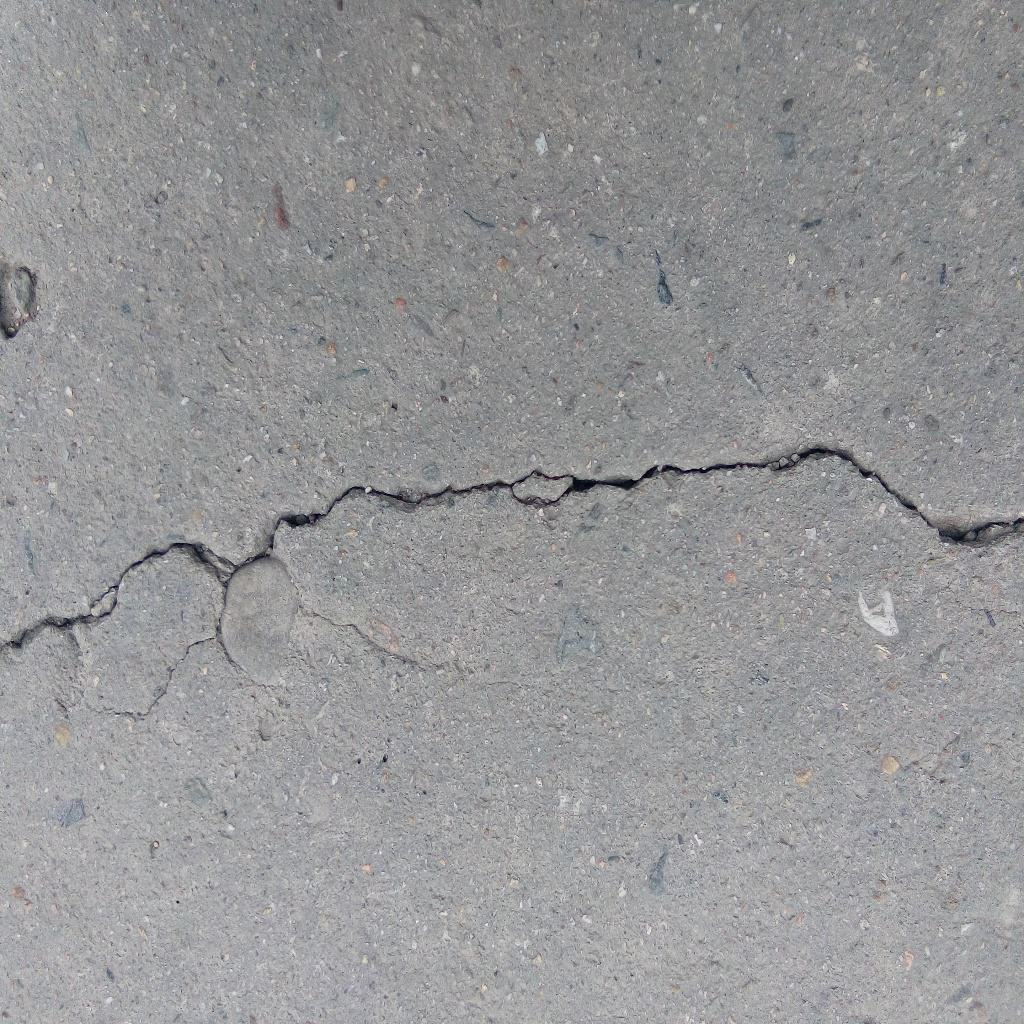Crack: (1, 446, 1024, 721)
Spalling: (1, 263, 38, 340)
